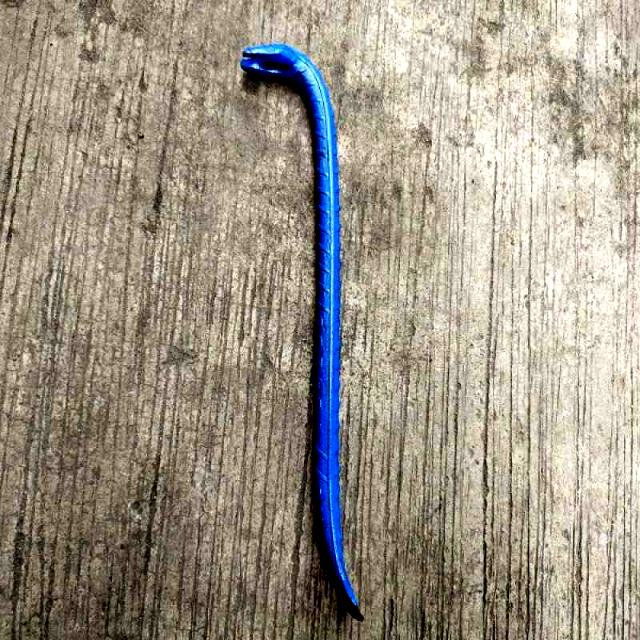crow bar: (221, 36, 381, 624)
